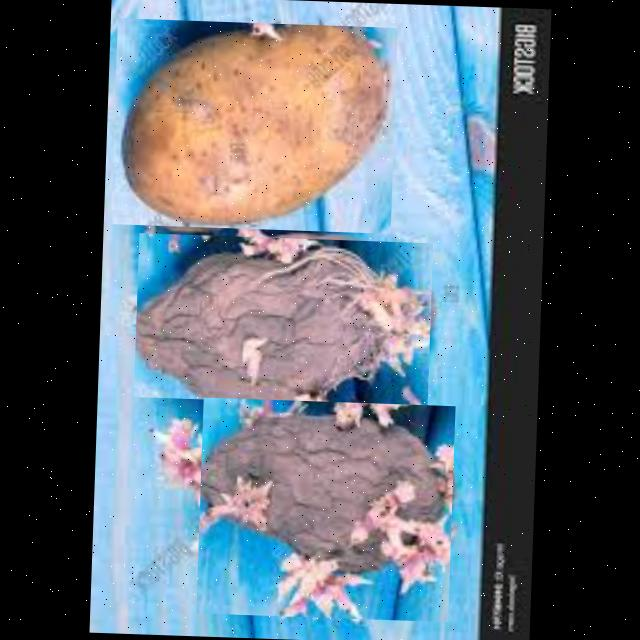Potato: (110, 16, 398, 232)
Sprouted potato: (196, 396, 455, 621), (133, 232, 433, 406)
